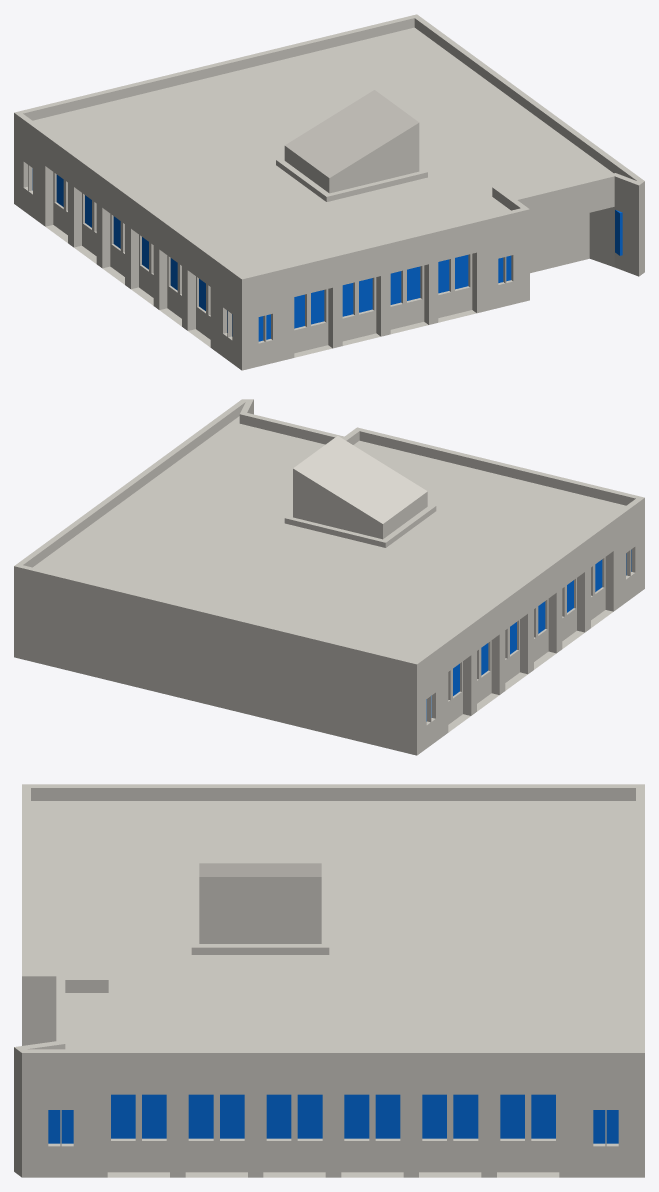
File: 디자인문화관.fbx
The picture shows the model from 3 angles, top to bottom: view 1: azimuth 30°, elevation 25°; view 2: azimuth 150°, elevation 25°; view 3: azimuth 270°, elevation 25°; orthographic projection. The views are drawn at different scales.
Visible parts, largest first — view 1: Cube, Cube_1, Cube_101, Cube_119; view 2: Cube, Cube_1, Cube_119; view 3: Cube, Cube_105, Cube_1, Cube_104, Cube_100.
Part boxes in pixels (x1,y1,x2,y2): Cube: (14, 14, 644, 370); Cube_1: (276, 90, 427, 201); Cube_101: (294, 255, 468, 328); Cube_119: (32, 168, 232, 336); Cube: (14, 399, 644, 755); Cube_1: (284, 436, 436, 547); Cube_119: (426, 550, 631, 721); Cube: (14, 784, 644, 1177); Cube_105: (111, 1094, 555, 1138); Cube_1: (191, 863, 329, 954); Cube_104: (48, 1110, 73, 1143); Cube_100: (593, 1110, 618, 1143).
Size of the model in its own units: 500 by 168 by 496.
